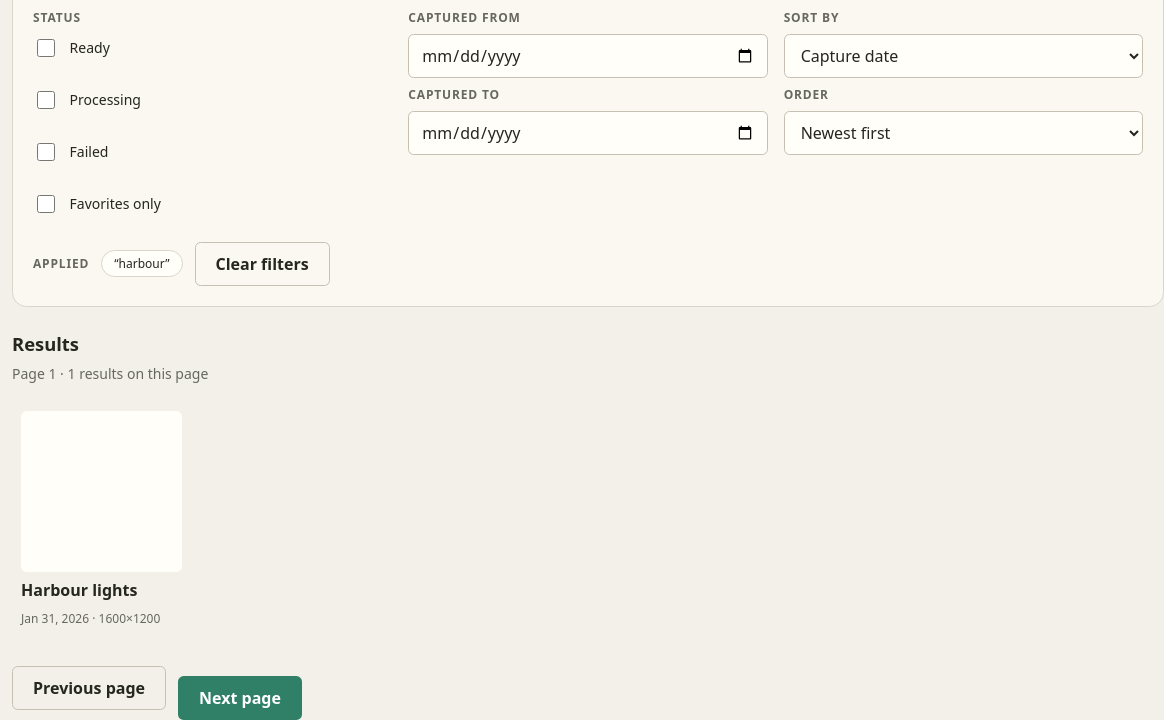
Test: search › pages through results instead of appending in paged reading mode
(page scrolled)
Expected: the button "Previous page" is disabled, [12,666,166,710]
Step 1. Click the button "Next page" → [240, 698], box [178,676,302,719]
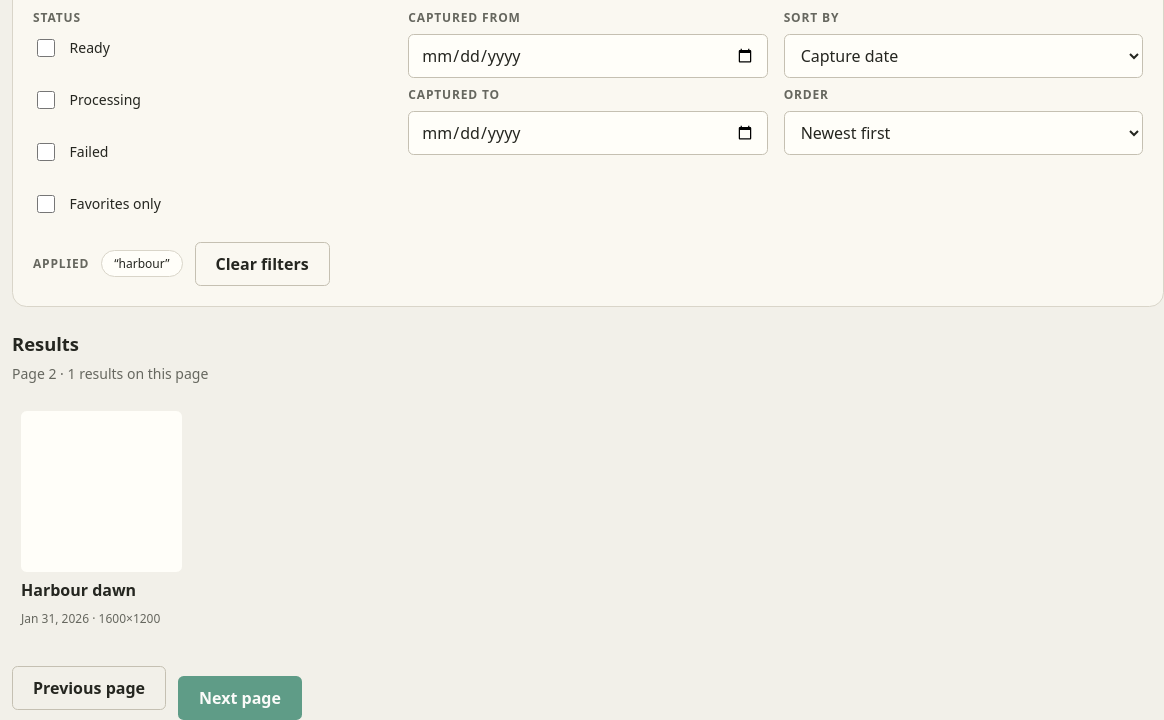
Now the link "Harbour lights" is gone
Now the message shows "Page 2", box [12,364,208,383]
Step 2. Click the button "Previous page" → [89, 688], box [12,666,166,710]
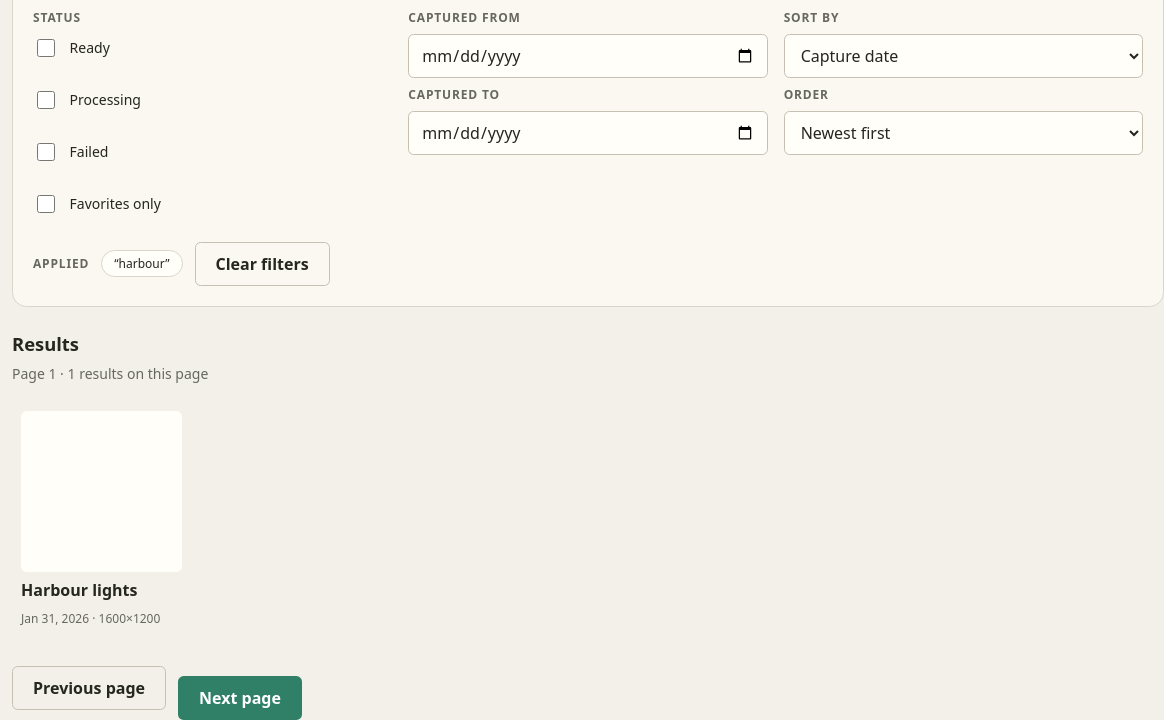
Now the message shows "Page 1", box [12,364,208,383]
